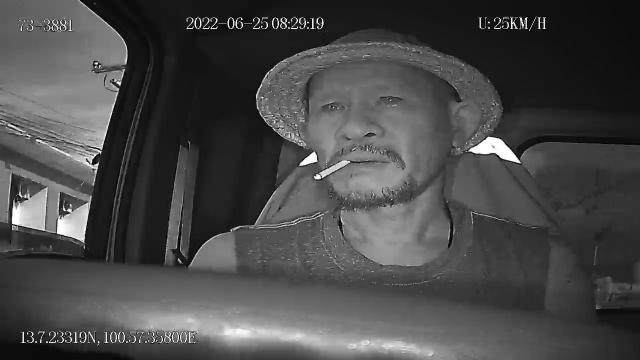SafeDriving: (370, 87, 410, 111), (316, 94, 352, 118)
Smoking: (315, 159, 351, 181)
